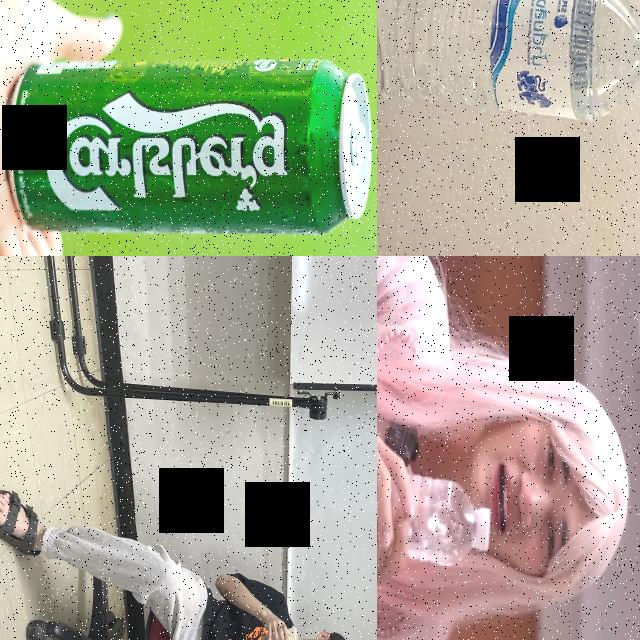bottle: (377, 0, 640, 119), (377, 449, 493, 569)
can: (4, 55, 372, 236)
cup: (259, 625, 301, 640)
